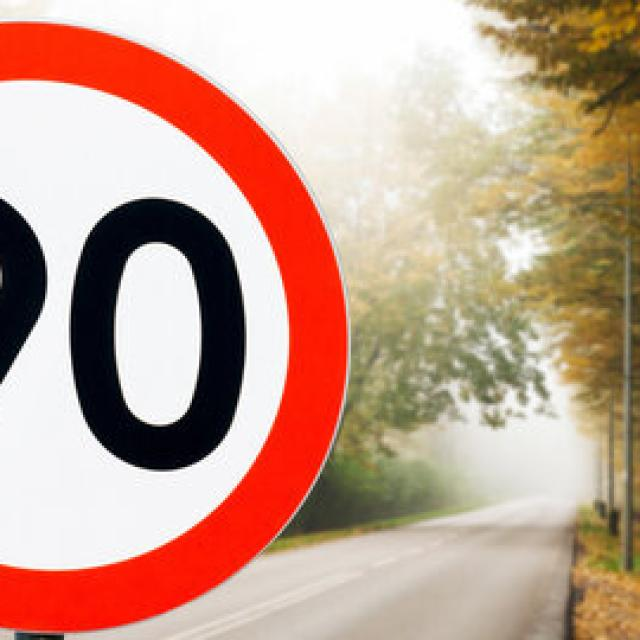Speed Limit -90-: (0, 19, 344, 640)
